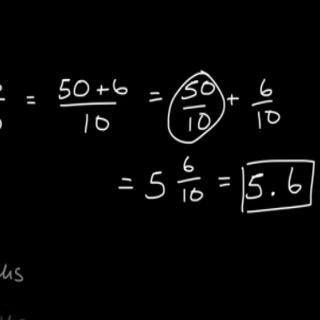.: (269, 187, 278, 201)
0: (199, 79, 217, 98), (94, 115, 112, 134), (188, 185, 206, 204), (73, 79, 89, 99), (265, 108, 280, 129), (196, 110, 211, 130)
1: (83, 112, 91, 136), (255, 109, 263, 132), (186, 112, 192, 134), (181, 184, 187, 206)
5: (142, 168, 167, 200), (246, 171, 264, 201), (57, 75, 73, 101), (182, 80, 199, 100)
6: (284, 165, 304, 198), (109, 75, 132, 98), (254, 75, 273, 99), (179, 154, 194, 173)
